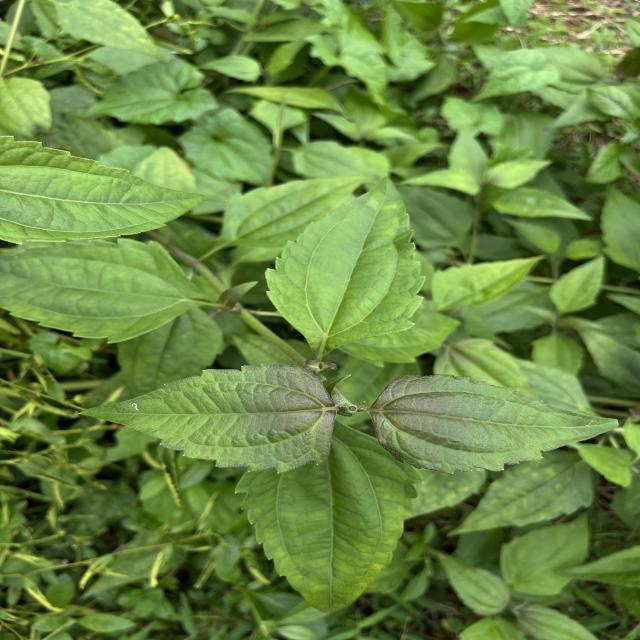Chromolaena odorata: (74, 360, 340, 478), (368, 372, 624, 478)
